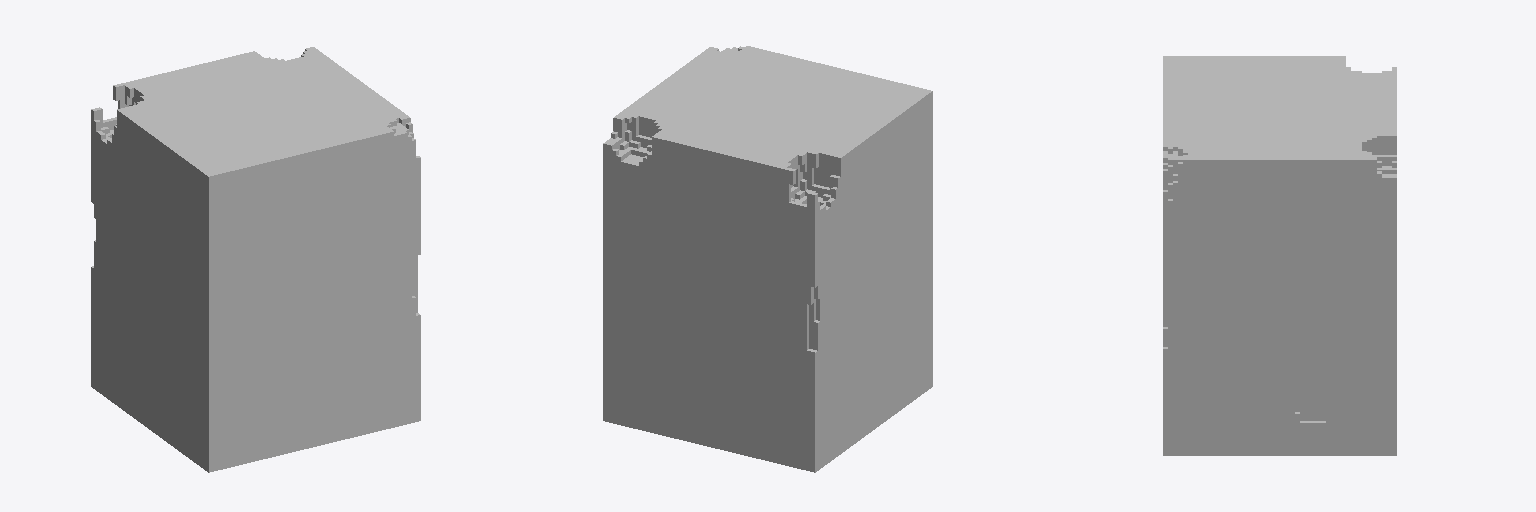
File: caja carton dañada-2-caja.obj
3 views of the same model, side by side, from view 1: azimuth 30°, elevation 25°; view 2: azimuth 150°, elevation 25°; view 3: azimuth 270°, elevation 25° (orthographic).
Visible parts, largest first — view 1: caja; view 2: caja; view 3: caja.
Part boxes in pixels (bbox=[...]): caja: bbox=[91, 47, 420, 472]; caja: bbox=[603, 46, 932, 472]; caja: bbox=[1163, 56, 1396, 455].
Size of the model in its own units: 4.8 by 6.4 by 4.6.